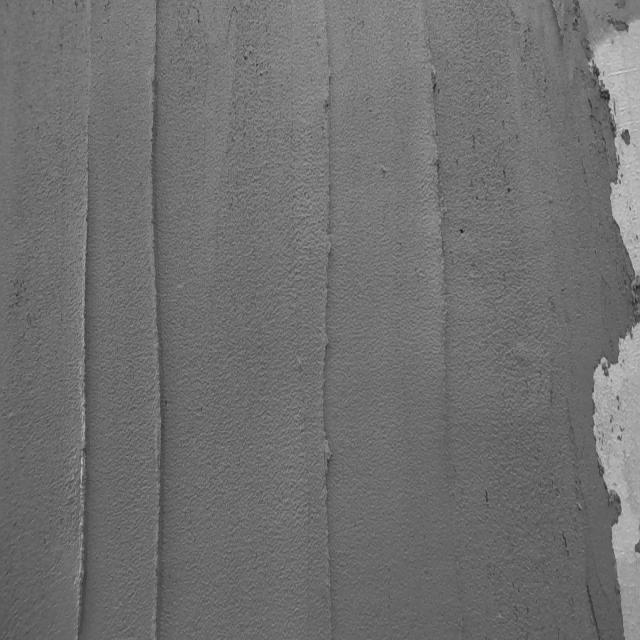trowels marks: (141, 4, 171, 640), (68, 5, 96, 640), (315, 9, 342, 640), (426, 41, 456, 478)
